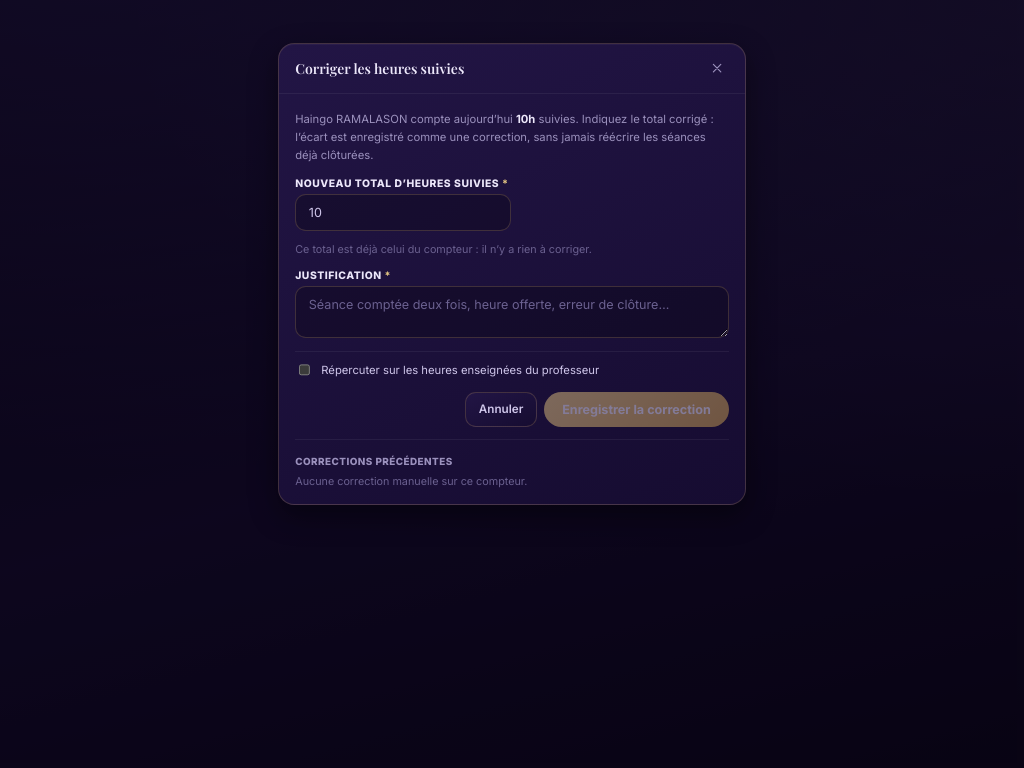
Test: AjusterHeuresModale › fait choisir le professeur quand l’élève en a plusieurs
The width and height of the screenshot is (1024, 768).
Click the checkbox at (305, 370), box 299,364 -> 310,376
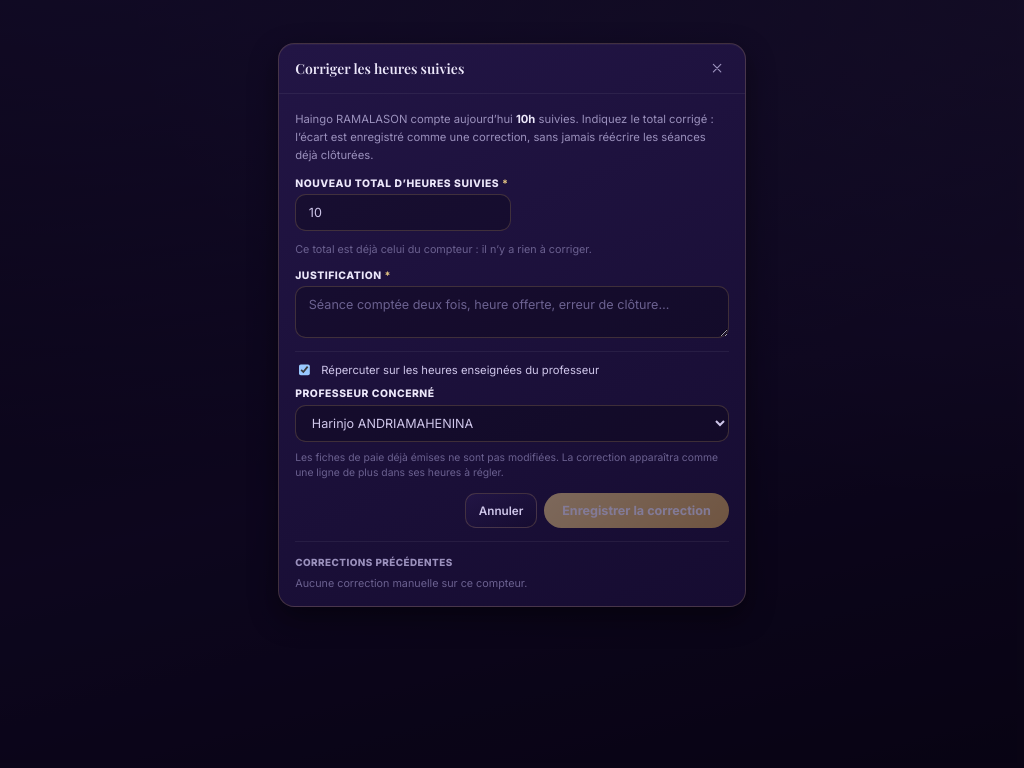
Check: the dropdown labelled "Professeur concerné" is shown, box 295,405 -> 729,442
